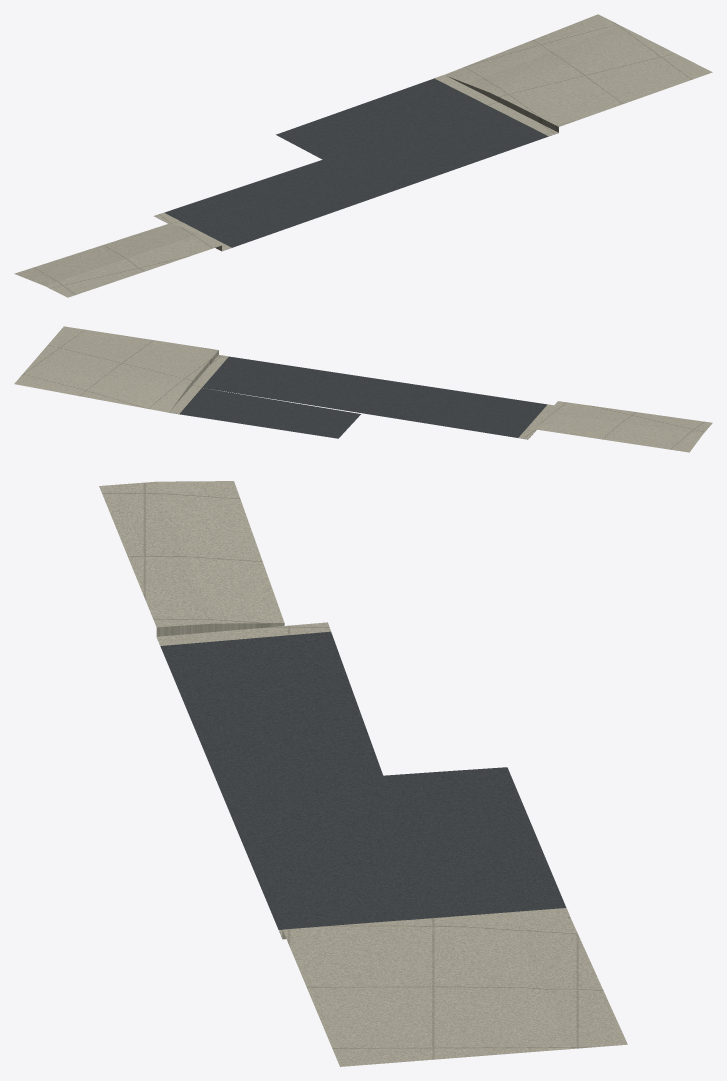
3 renders of one model, top to bottom at view 1: azimuth 30°, elevation 25°; view 2: azimuth 150°, elevation 25°; view 3: azimuth 270°, elevation 25°, orthographic. The views are drawn at different scales.
Parts seen in each view (by area): view 1: Carriageway, Clipped sidewalks with lowered crossing approaches, Concrete drainage margins, Raised curb faces; view 2: Carriageway, Clipped sidewalks with lowered crossing approaches, Concrete drainage margins; view 3: Carriageway, Clipped sidewalks with lowered crossing approaches, Concrete drainage margins, Raised curb faces.
Boxes of the visible parts, bbox=[...] form: Carriageway: bbox=[158, 78, 558, 251]; Clipped sidewalks with lowered crossing approaches: bbox=[14, 14, 712, 297]; Concrete drainage margins: bbox=[154, 75, 558, 250]; Raised curb faces: bbox=[215, 76, 558, 251]; Carriageway: bbox=[169, 356, 547, 439]; Clipped sidewalks with lowered crossing approaches: bbox=[14, 326, 712, 452]; Concrete drainage margins: bbox=[169, 355, 553, 439]; Carriageway: bbox=[159, 631, 569, 936]; Clipped sidewalks with lowered crossing approaches: bbox=[99, 481, 627, 1066]; Concrete drainage margins: bbox=[157, 622, 570, 937]; Raised curb faces: bbox=[156, 623, 286, 939].
Bounding box in the file's own units: 19.18 × 0.2443 × 7.33.
